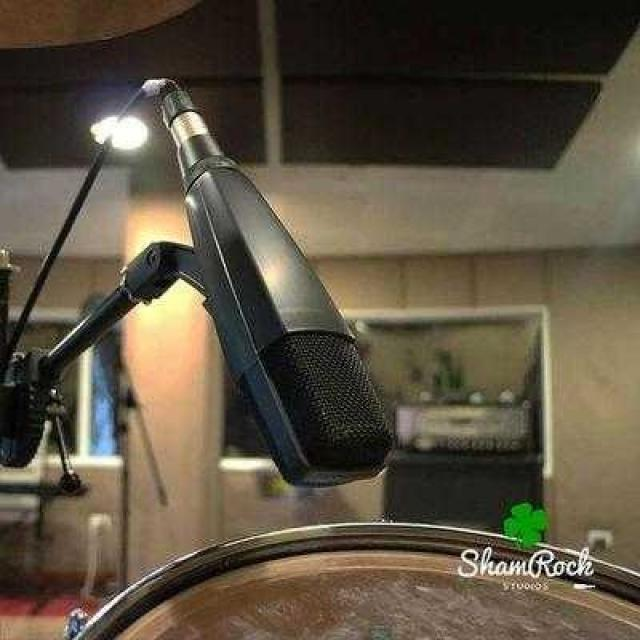microphone: (12, 83, 385, 484)
